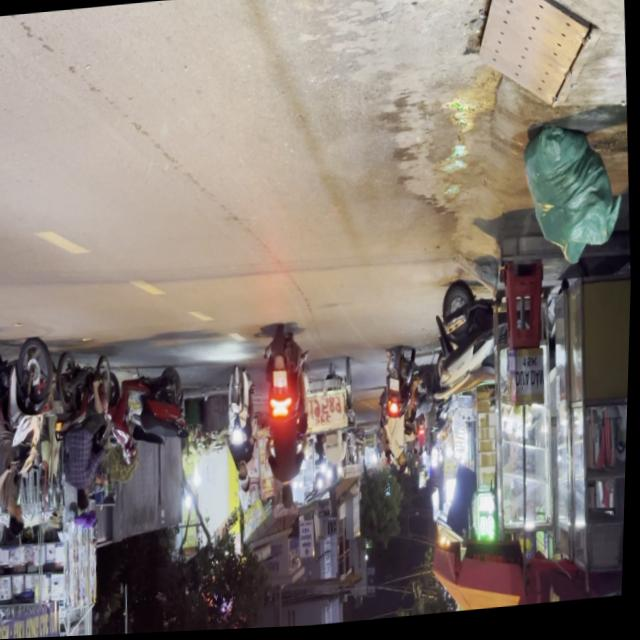licenseplate: (0, 331, 65, 550), (48, 342, 122, 534), (258, 328, 319, 520)
motorcyclist: (7, 503, 28, 541), (281, 487, 297, 517), (78, 485, 93, 512)
nohelmet: (275, 373, 290, 391)
